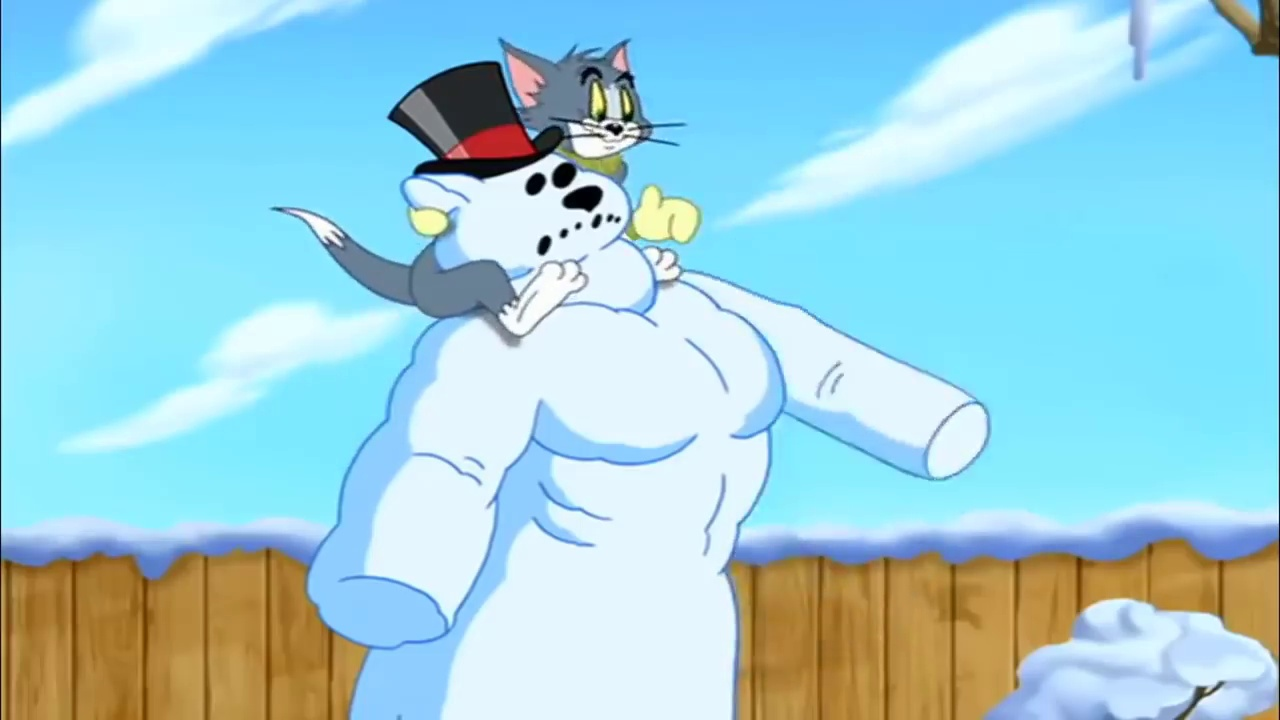face: (561, 59, 649, 160)
